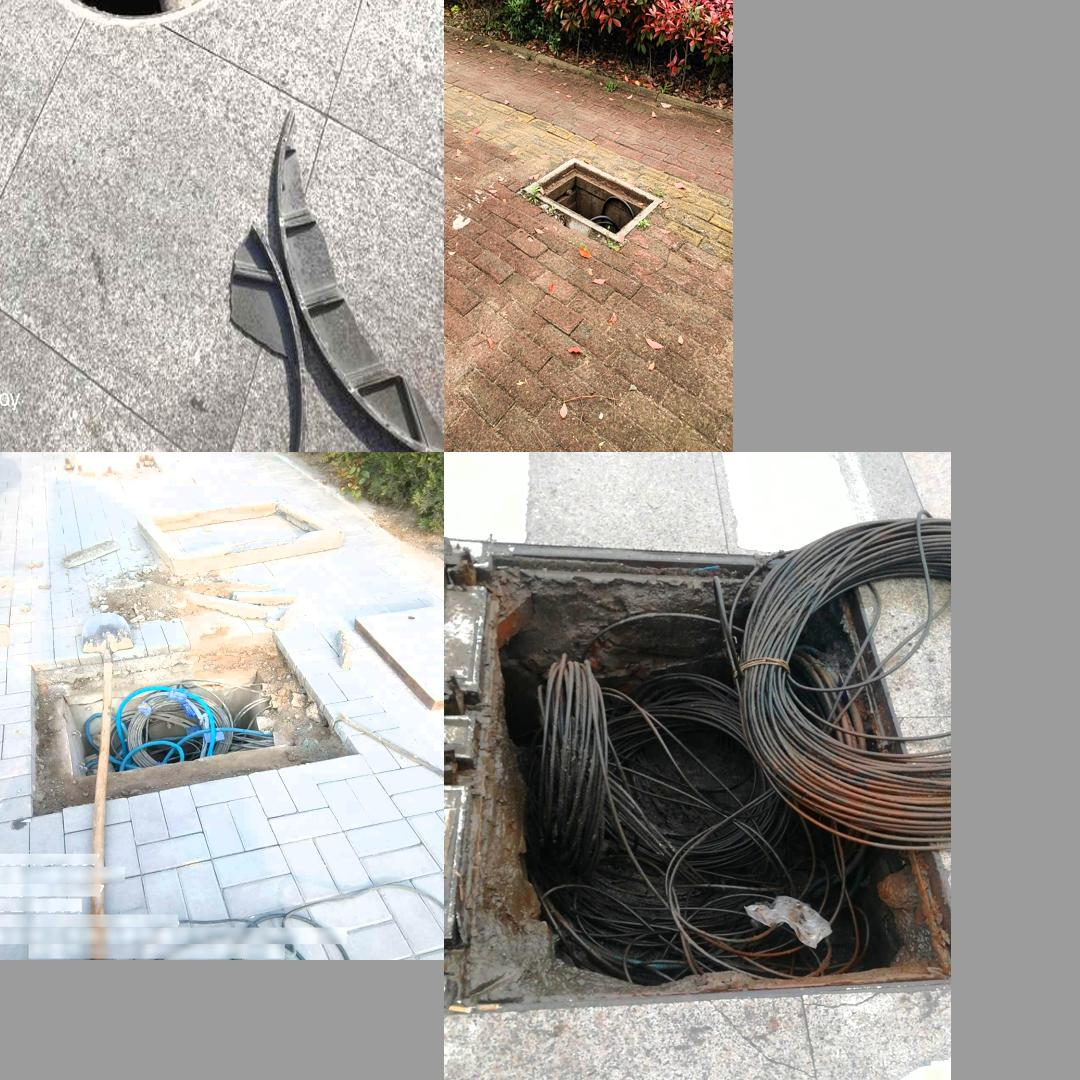lose: (455, 537, 938, 1036), (43, 656, 306, 781), (514, 150, 666, 253), (8, 0, 297, 46)
